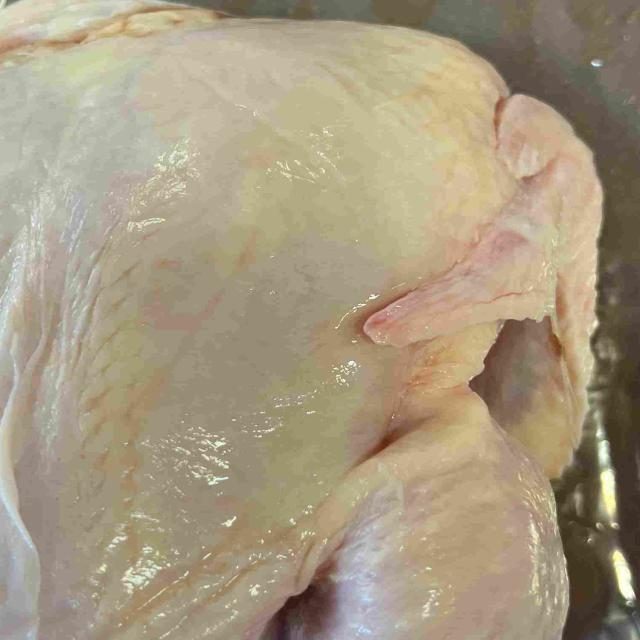breast: (0, 23, 495, 640)
wing: (355, 84, 614, 467)
